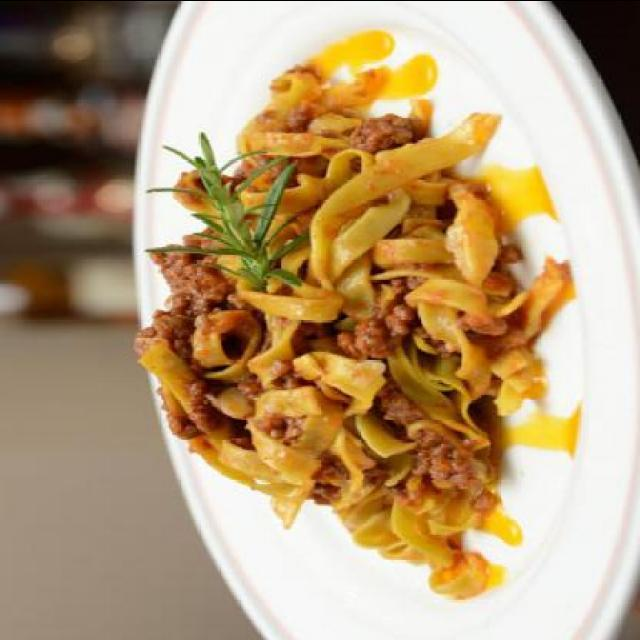Pasta al ragu: (114, 77, 524, 545)
